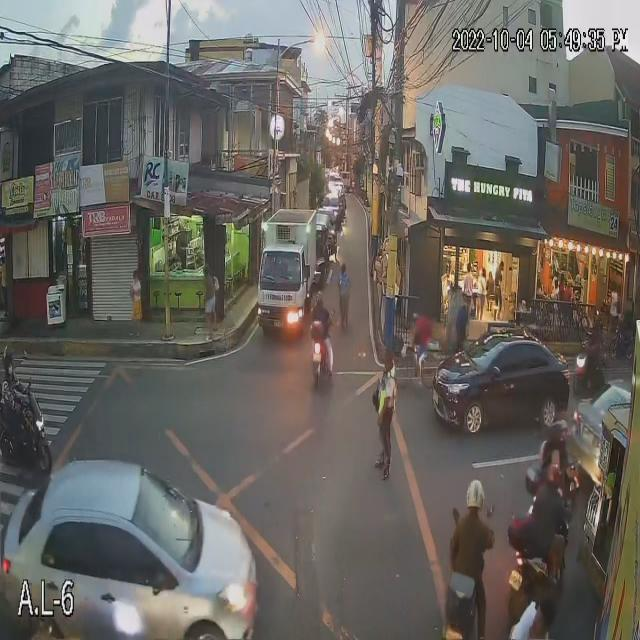helmet: (465, 476, 489, 523), (1, 344, 18, 383), (542, 420, 573, 440), (546, 471, 564, 484), (314, 293, 327, 309)
motorcycle: (508, 529, 576, 625), (434, 555, 488, 640), (0, 392, 56, 467), (572, 349, 616, 402), (300, 337, 336, 383)
rider: (437, 477, 497, 576), (522, 466, 576, 571), (537, 413, 573, 499), (0, 328, 25, 428), (577, 309, 608, 378), (310, 289, 329, 356)
